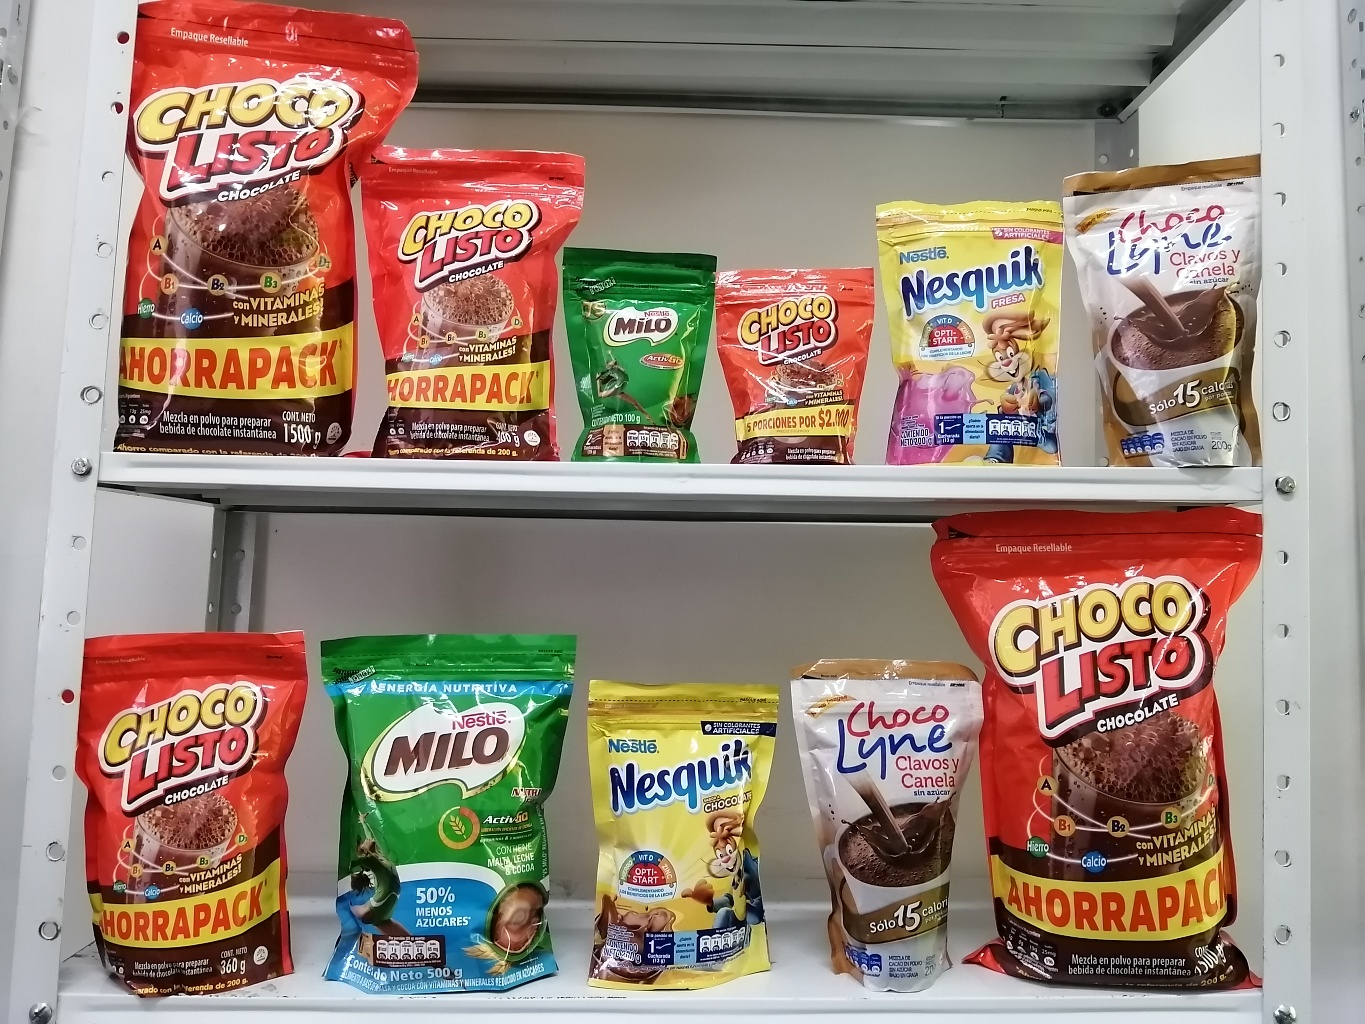COL0170103DYP1,500: (124, 3, 416, 454)
COL0170103DYP10000: (719, 262, 877, 463)
COL0170103DYP36000: (74, 616, 322, 993)
COL0170103DYP40000: (352, 125, 584, 458)
COL0170203DYP10000: (560, 236, 727, 464)
COL0170205DYP50000: (324, 625, 586, 999)
COL0170303DYP20000: (586, 665, 788, 991)
COL0170305DYP20000: (866, 188, 1066, 466)
